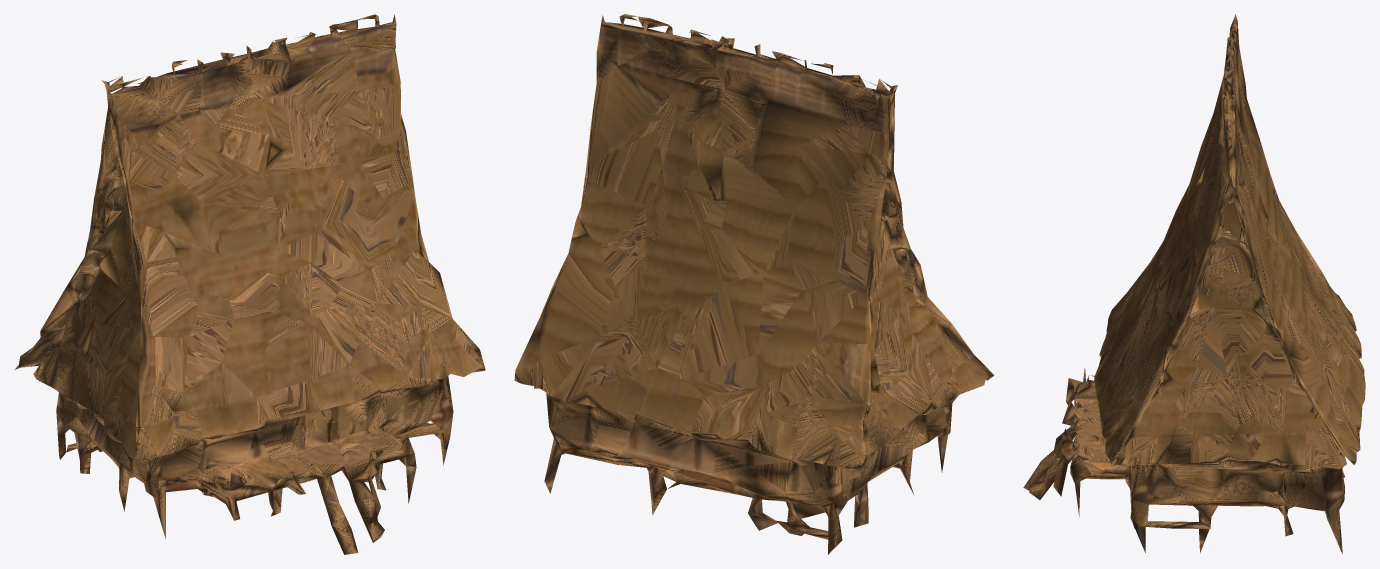
File: nha-rong.glb
3 views of the same model, side by side, from view 1: azimuth 30°, elevation 25°; view 2: azimuth 150°, elevation 25°; view 3: azimuth 270°, elevation 25° (orthographic). The views are drawn at different scales.
Size of the model in its own units: 0.8216 by 0.9733 by 0.7345.
1 material, 1 textured.
